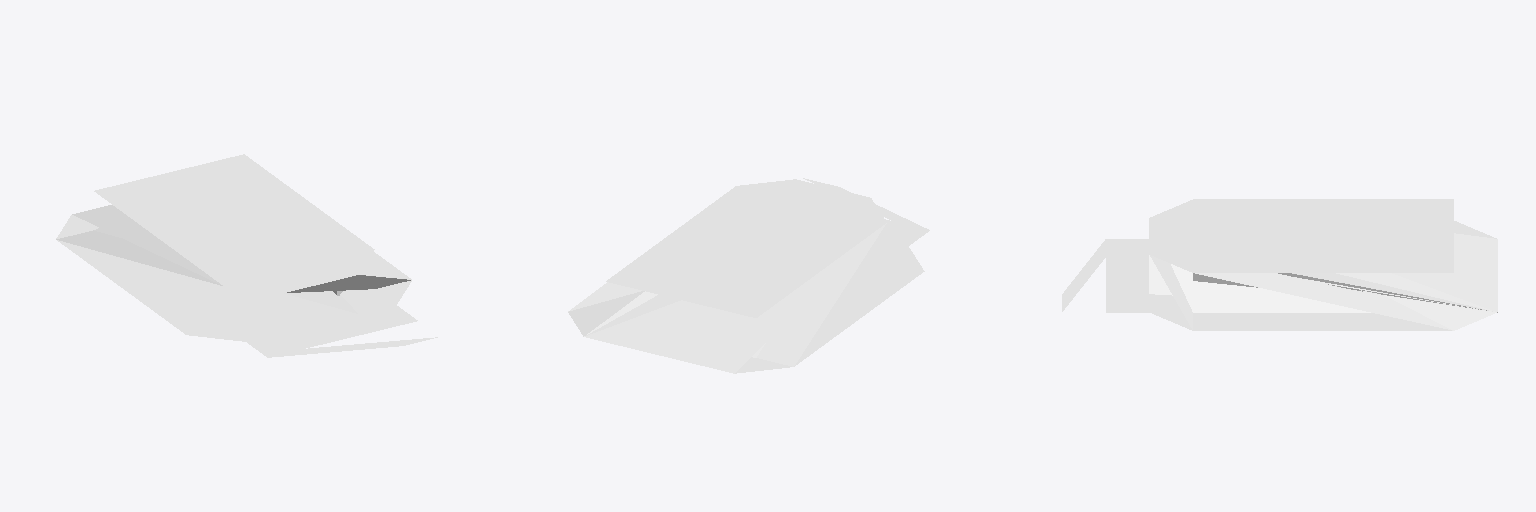
Rendered from miniturtle.obj.
The picture shows the model from 3 angles: view 1: azimuth 30°, elevation 25°; view 2: azimuth 150°, elevation 25°; view 3: azimuth 270°, elevation 25°; orthographic projection.
Size of the model in its own units: 6 by 1 by 10.